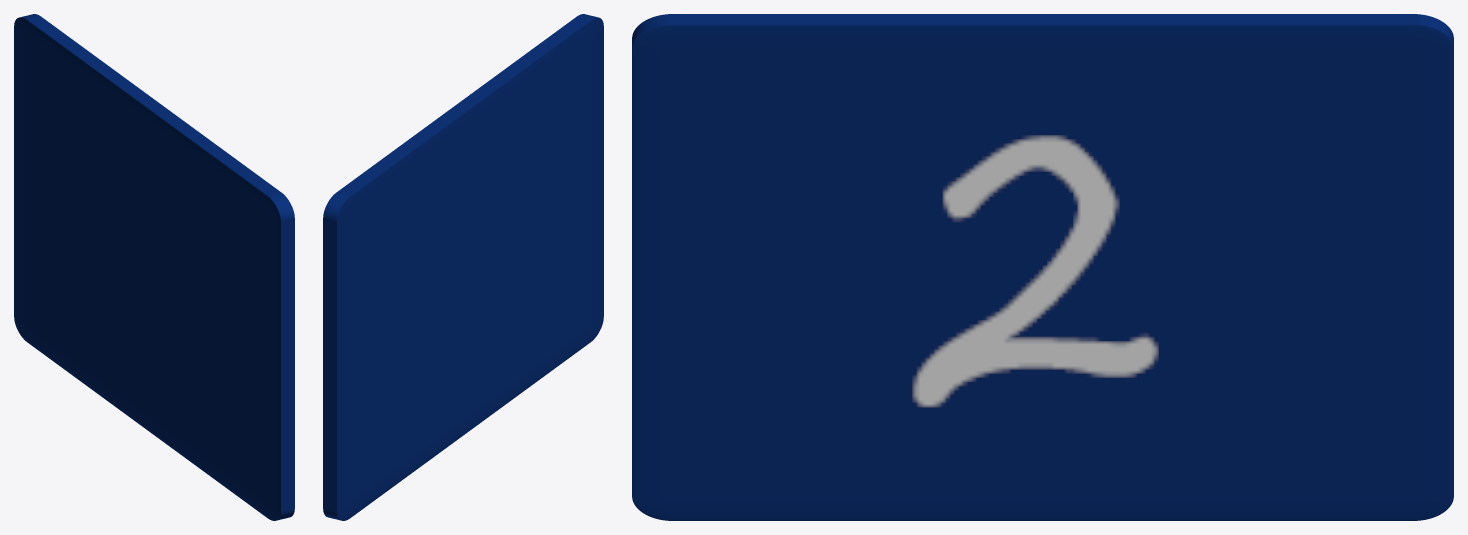
The model's file is carBoard2.fbx.
3 renders of one model, left to right at view 1: azimuth 30°, elevation 25°; view 2: azimuth 150°, elevation 25°; view 3: azimuth 270°, elevation 25°, orthographic. The views are drawn at different scales.
Parts seen in each view (by area): view 1: Cube.010; view 2: Cube.010; view 3: Cube.010.
Part boxes in pixels (x1,y1,x2,y2): Cube.010: (14, 14, 294, 520); Cube.010: (323, 14, 603, 520); Cube.010: (632, 14, 1453, 520).
Size of the model in its own units: 0.5 by 10 by 15.
